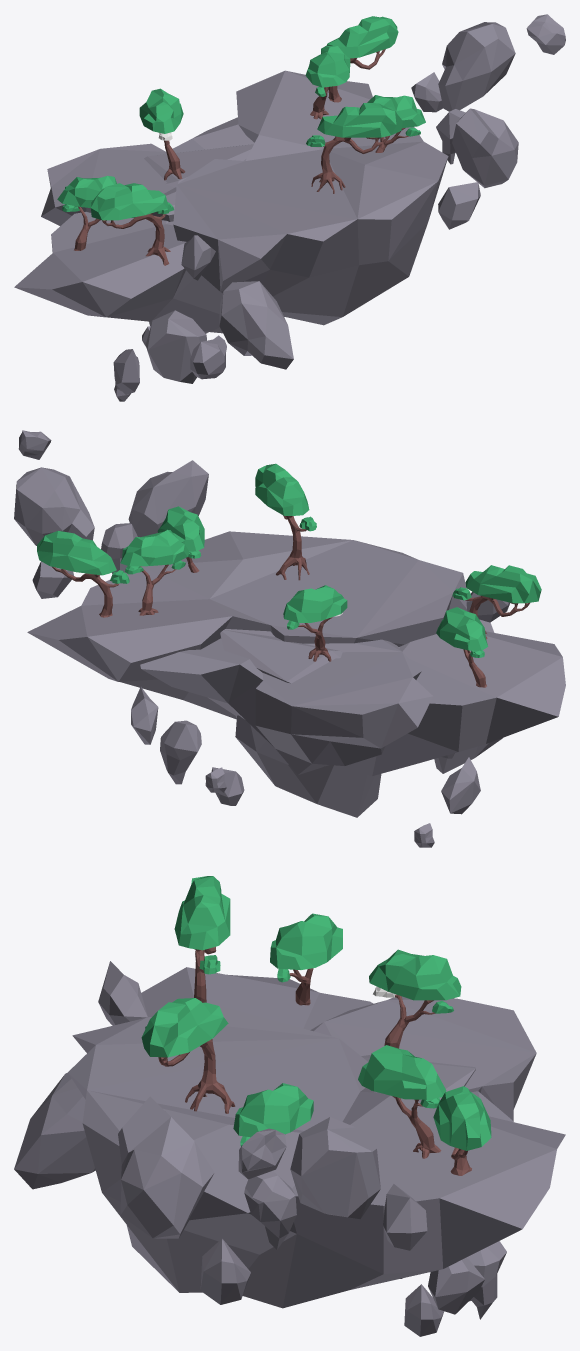
File: island test.fbx
3 views of the same model, one above another, from view 1: azimuth 30°, elevation 25°; view 2: azimuth 150°, elevation 25°; view 3: azimuth 270°, elevation 25° (orthographic). The views are drawn at different scales.
Parts seen in each view (by area): view 1: Cube.001, Cube.002, Cube.005, Cube.016, Cube.019, Cube.025, Cube.011, Cube.003, Cube.030, Cube.035, Cube.004, Cube.038 (+11 smaller); view 2: Cube.001, Cube.005, Cube.002, Cube.008, Cube.016, Cube.025, Cube.035, Cube.030, Cube.003, Cube.009, Cube.038, Cube.004 (+14 smaller); view 3: Cube.001, Cube.005, Cube.025, Cube.002, Cube.016, Cube.019, Cube.003, Cube.004, Cube.038, Cube.030, Cube.033, Cube.028 (+13 smaller).
Part boxes in pixels (x1=…): Cube.001: x1=173, y1=70, x2=448, y2=325; Cube.002: x1=14, y1=144, x2=253, y2=333; Cube.005: x1=41, y1=117, x2=254, y2=225; Cube.016: x1=438, y1=22, x2=515, y2=111; Cube.019: x1=219, y1=281, x2=293, y2=369; Cube.025: x1=452, y1=108, x2=518, y2=188; Cube.011: x1=145, y1=310, x2=206, y2=383; Cube.003: x1=317, y1=103, x2=402, y2=137; Cube.030: x1=91, y1=183, x2=167, y2=220; Cube.035: x1=326, y1=16, x2=398, y2=58; Cube.004: x1=139, y1=88, x2=183, y2=133; Cube.038: x1=305, y1=46, x2=350, y2=87; Cube.001: x1=27, y1=531, x2=467, y2=719; Cube.005: x1=140, y1=638, x2=433, y2=774; Cube.002: x1=220, y1=629, x2=565, y2=776; Cube.008: x1=235, y1=715, x2=381, y2=817; Cube.016: x1=14, y1=467, x2=94, y2=545; Cube.025: x1=128, y1=460, x2=208, y2=537; Cube.035: x1=37, y1=531, x2=116, y2=575; Cube.030: x1=465, y1=565, x2=541, y2=603; Cube.003: x1=255, y1=463, x2=309, y2=515; Cube.009: x1=160, y1=720, x2=201, y2=784; Cube.038: x1=120, y1=529, x2=189, y2=566; Cube.004: x1=283, y1=585, x2=347, y2=622; Cube.001: x1=68, y1=1006, x2=565, y2=1308; Cube.005: x1=310, y1=996, x2=536, y2=1121; Cube.025: x1=118, y1=1096, x2=214, y2=1238; Cube.002: x1=141, y1=967, x2=475, y2=1099; Cube.016: x1=290, y1=1117, x2=380, y2=1219; Cube.019: x1=14, y1=1072, x2=95, y2=1189; Cube.003: x1=141, y1=998, x2=228, y2=1057; Cube.004: x1=369, y1=949, x2=461, y2=1000; Cube.038: x1=358, y1=1045, x2=446, y2=1099; Cube.030: x1=174, y1=876, x2=230, y2=950; Cube.033: x1=270, y1=913, x2=342, y2=969; Cube.028: x1=233, y1=1083, x2=313, y2=1137.
Bounding box in the file's own units: 4506 × 2384 × 2833.
